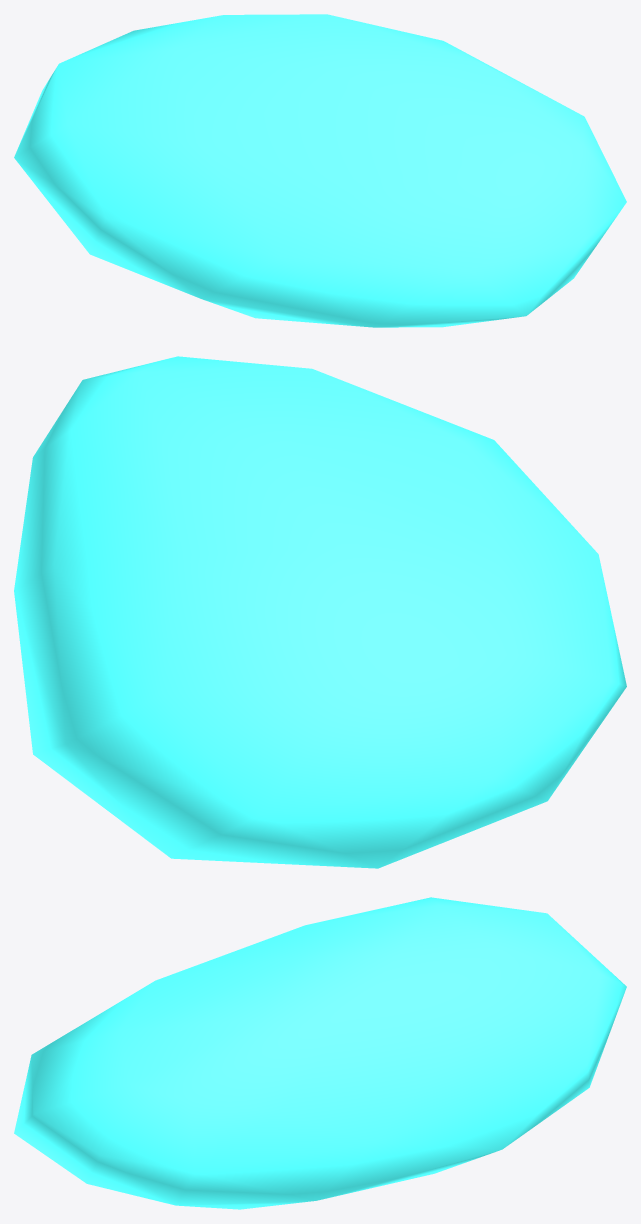
The model's file is jelly-bean-patio-lights-blue.glb.
The picture shows the model from 3 angles, top to bottom: view 1: azimuth 30°, elevation 25°; view 2: azimuth 150°, elevation 25°; view 3: azimuth 270°, elevation 25°; orthographic projection. The views are drawn at different scales.
Parts seen in each view (by area): view 1: Icosphere.002; view 2: Icosphere.002; view 3: Icosphere.002.
Part boxes in pixels (left/top/right/bottom): Icosphere.002: left=14, top=14, right=626, bottom=327; Icosphere.002: left=14, top=356, right=626, bottom=868; Icosphere.002: left=14, top=897, right=626, bottom=1209.
Size of what is drawn, in the model's own units: 0.513 by 0.2623 by 0.6089.
